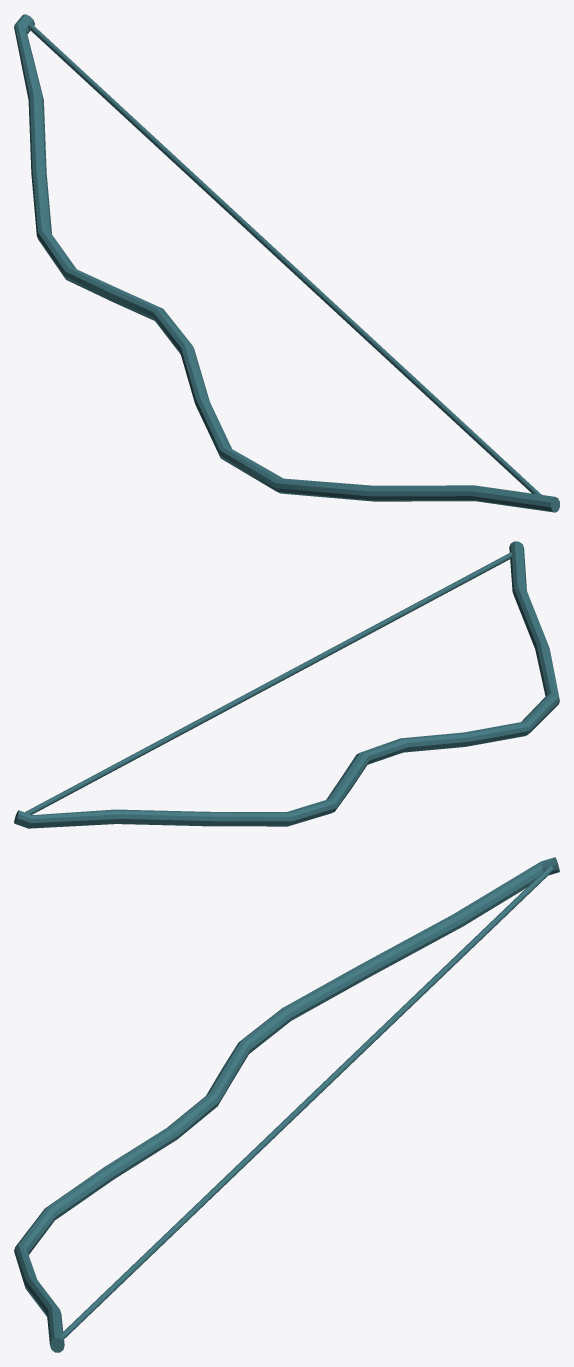
The model's file is Bow.fbx.
3 views of the same model, one above another, from view 1: azimuth 30°, elevation 25°; view 2: azimuth 150°, elevation 25°; view 3: azimuth 330°, elevation 25° (orthographic).
Parts seen in each view (by area): view 1: pasted__Bow; view 2: pasted__Bow; view 3: pasted__Bow.
Part boxes in pixels (x1,y1,x2,y2): pasted__Bow: (14, 14, 559, 512); pasted__Bow: (14, 541, 559, 828); pasted__Bow: (14, 857, 559, 1352).
Bounding box in the file's own units: 2.6 × 2.07 × 12.98.
